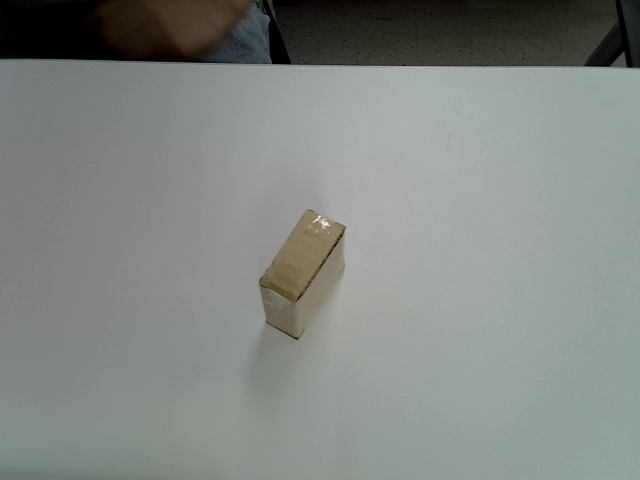normal: (259, 207, 348, 340)
